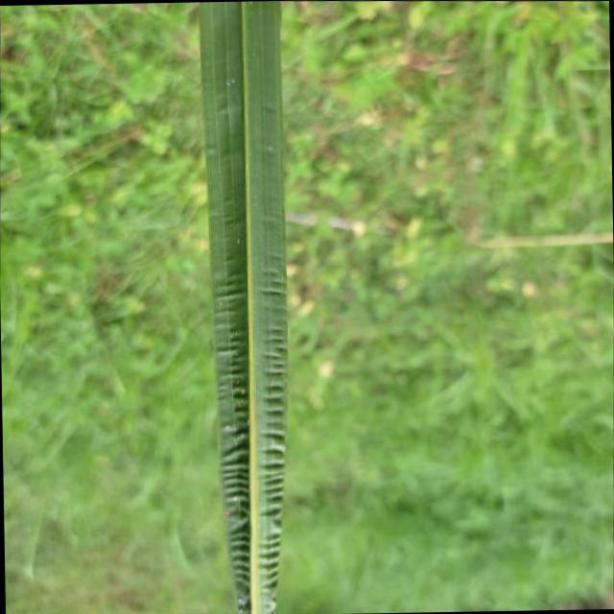Boron: (197, 0, 288, 614)
